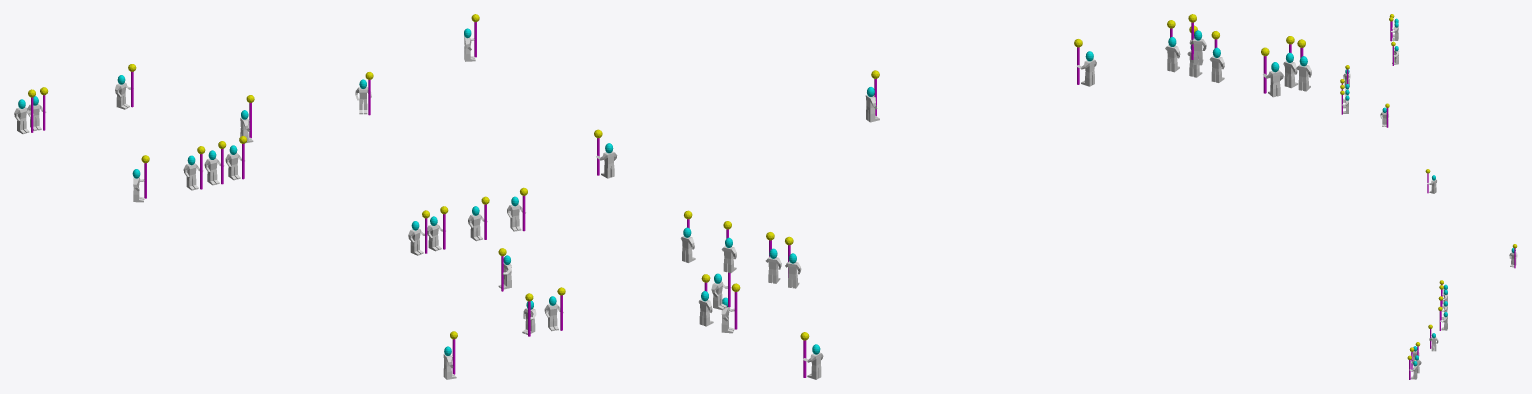
The model's file is NewCastle_PersonPlacements.glb.
3 views of the same model, side by side, from view 1: azimuth 30°, elevation 25°; view 2: azimuth 150°, elevation 25°; view 3: azimuth 270°, elevation 25° (orthographic). The views are drawn at different scales.
Visible parts, largest first — view 1: Person.012, Person.003, Person.013, Person.002, Person.001, Person.006, Person.017, Person.011, Person.010, Person.005, Person.009, Person.018 (+1 smaller); view 2: Person.004, Person.018; view 3: Person.008, Person.009, Person.017.
Part boxes in pixels (x1,y1,x2,y2): Person.012: (507, 187, 527, 231); Person.003: (183, 146, 205, 190); Person.013: (468, 196, 489, 241); Person.002: (204, 141, 226, 185); Person.001: (225, 136, 247, 180); Person.006: (14, 89, 35, 134); Person.017: (544, 287, 565, 331); Person.011: (427, 206, 448, 251); Person.010: (408, 210, 429, 255); Person.005: (115, 64, 136, 109); Person.009: (355, 72, 373, 115); Person.018: (443, 331, 457, 379); Person.004: (1261, 47, 1283, 97); Person.018: (800, 332, 823, 379); Person.008: (1380, 103, 1389, 127); Person.009: (1425, 169, 1436, 193); Person.017: (1407, 355, 1417, 379).
Bounding box in the file's own units: 21.75 × 14.95 × 10.47.
